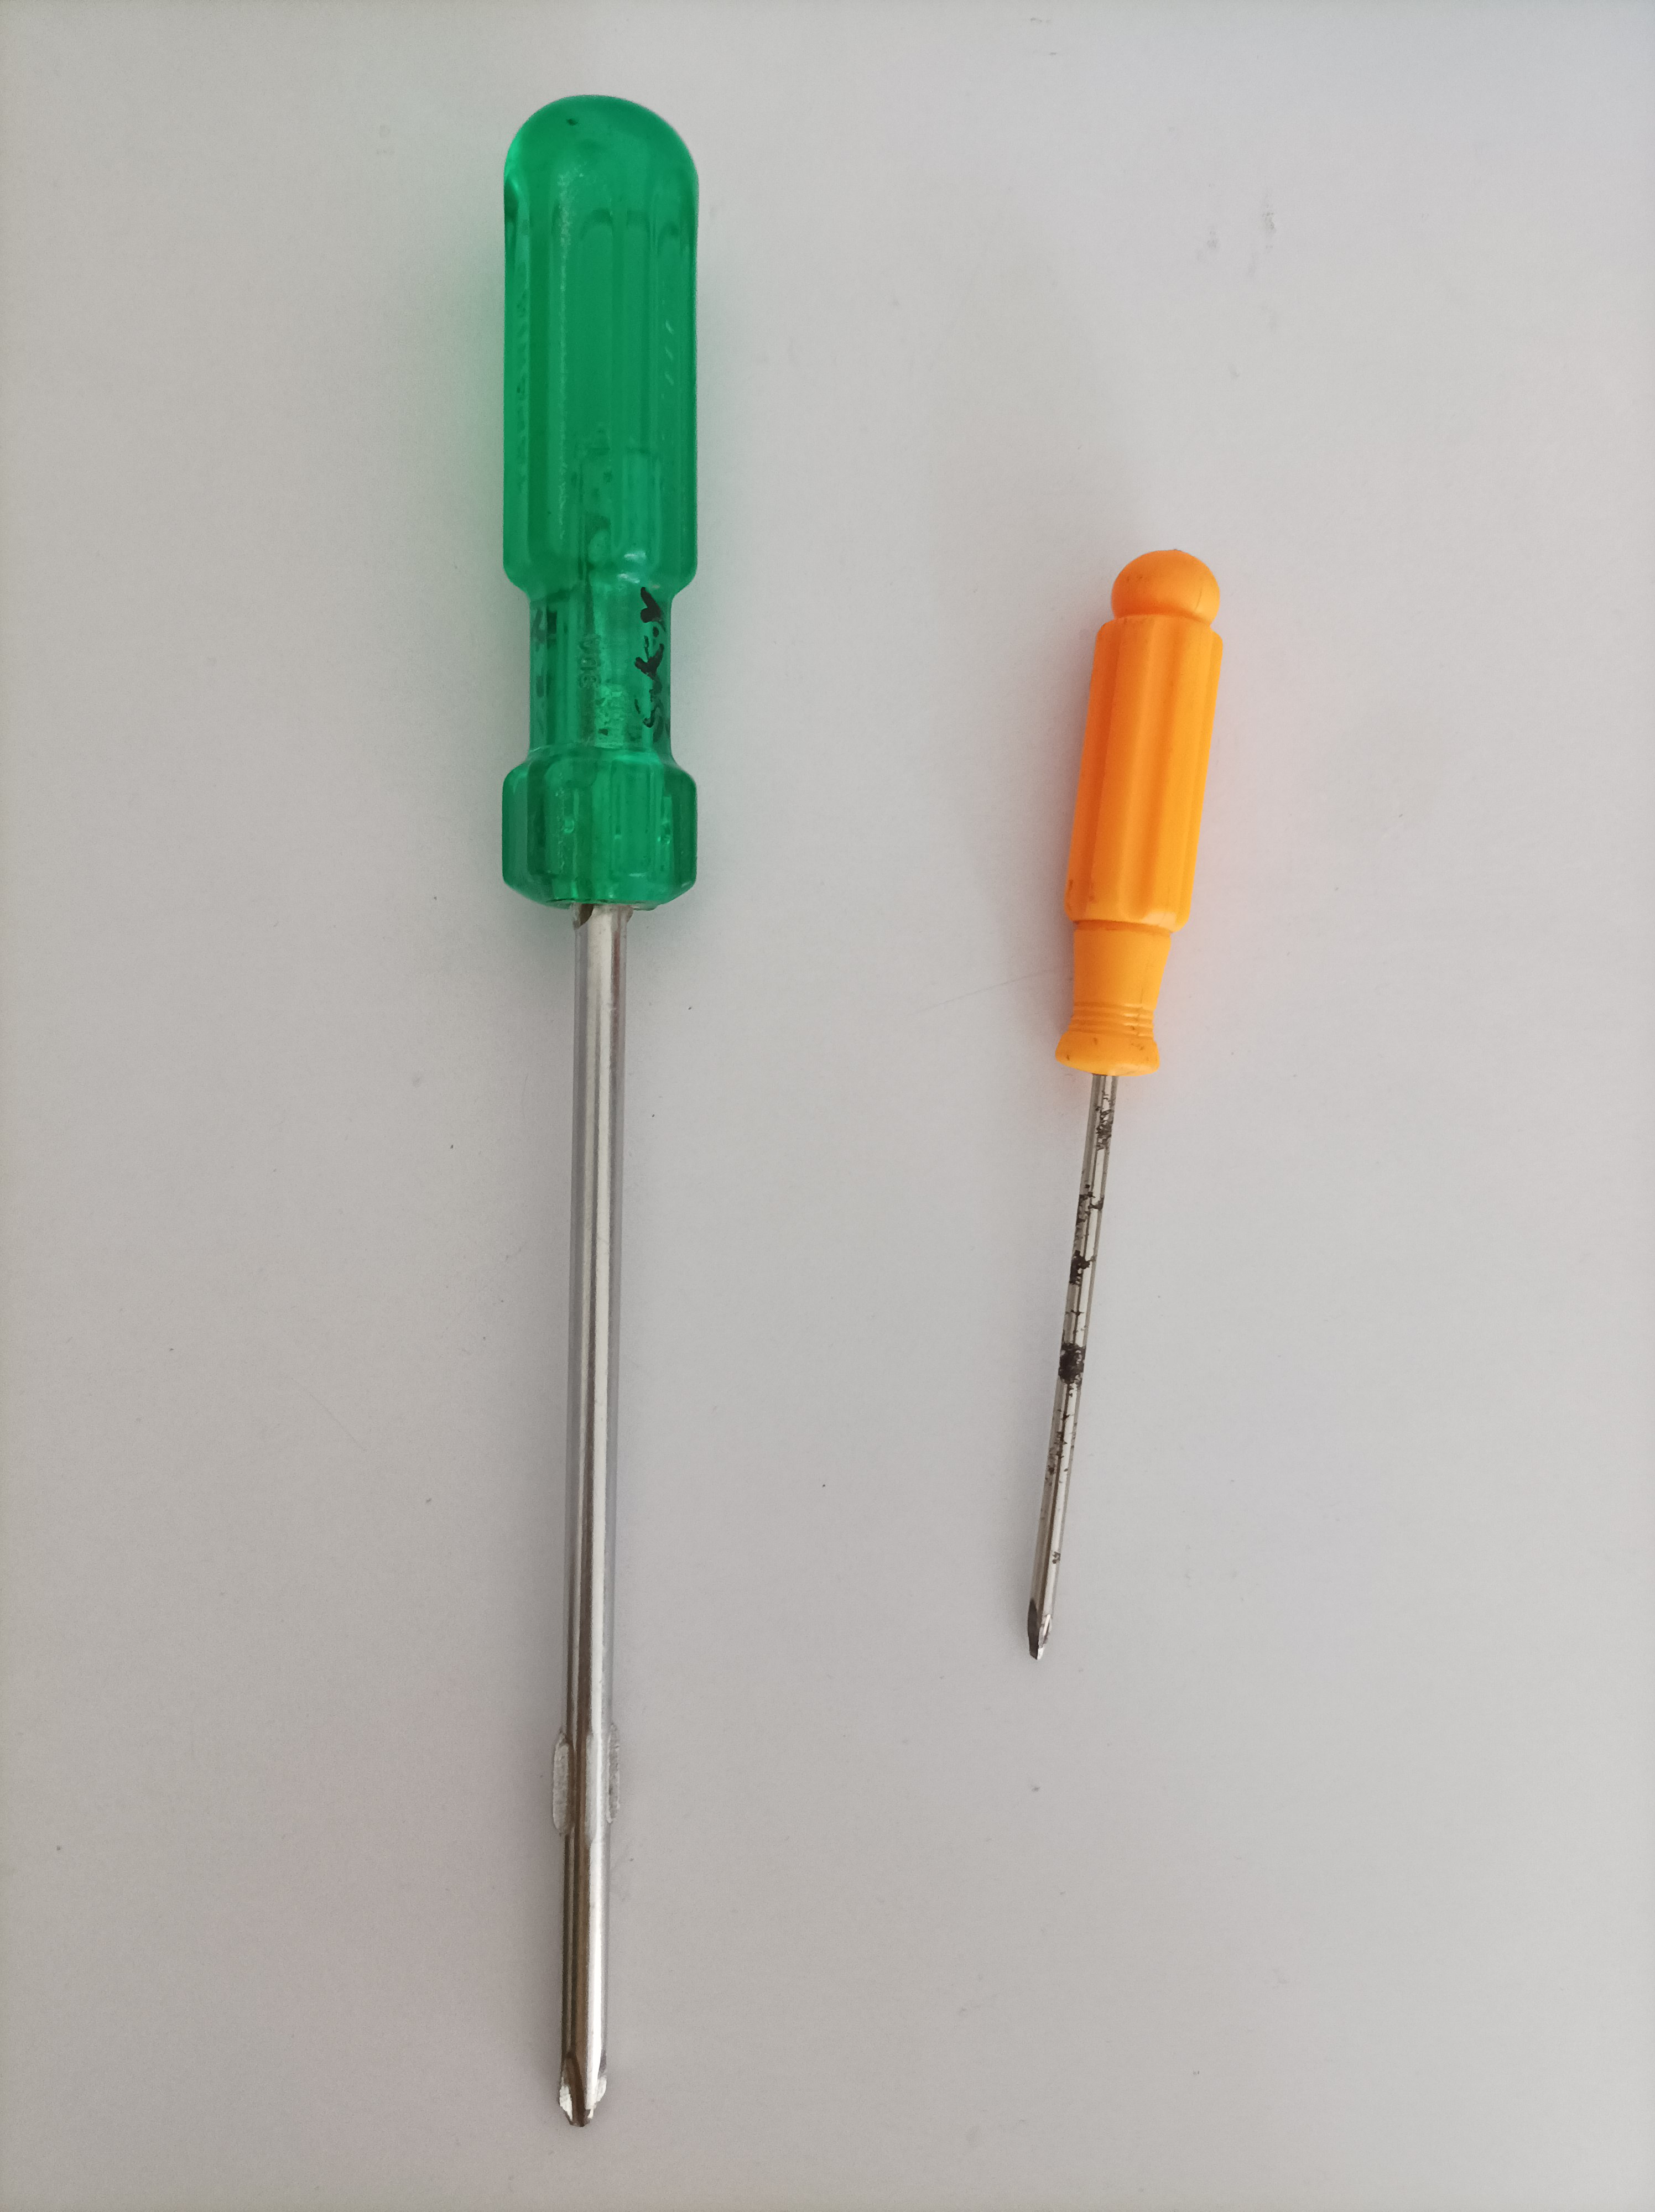screwdriver: (482, 85, 713, 2156), (1010, 539, 1236, 1672)
